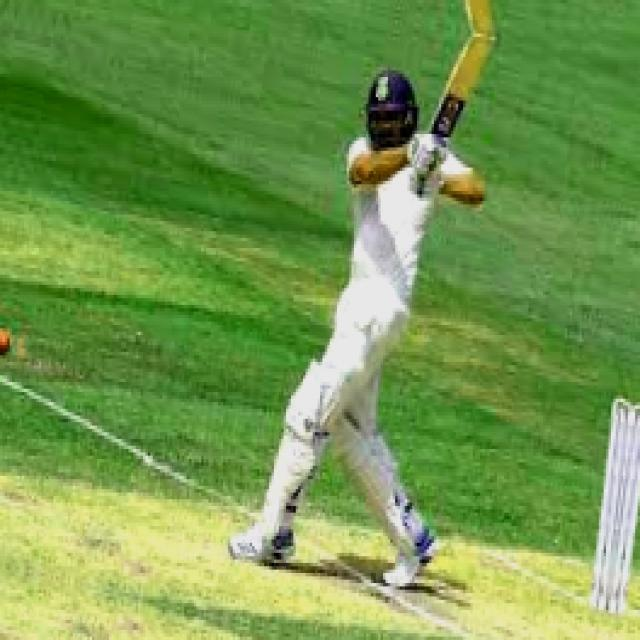toe: (468, 32, 501, 54)
